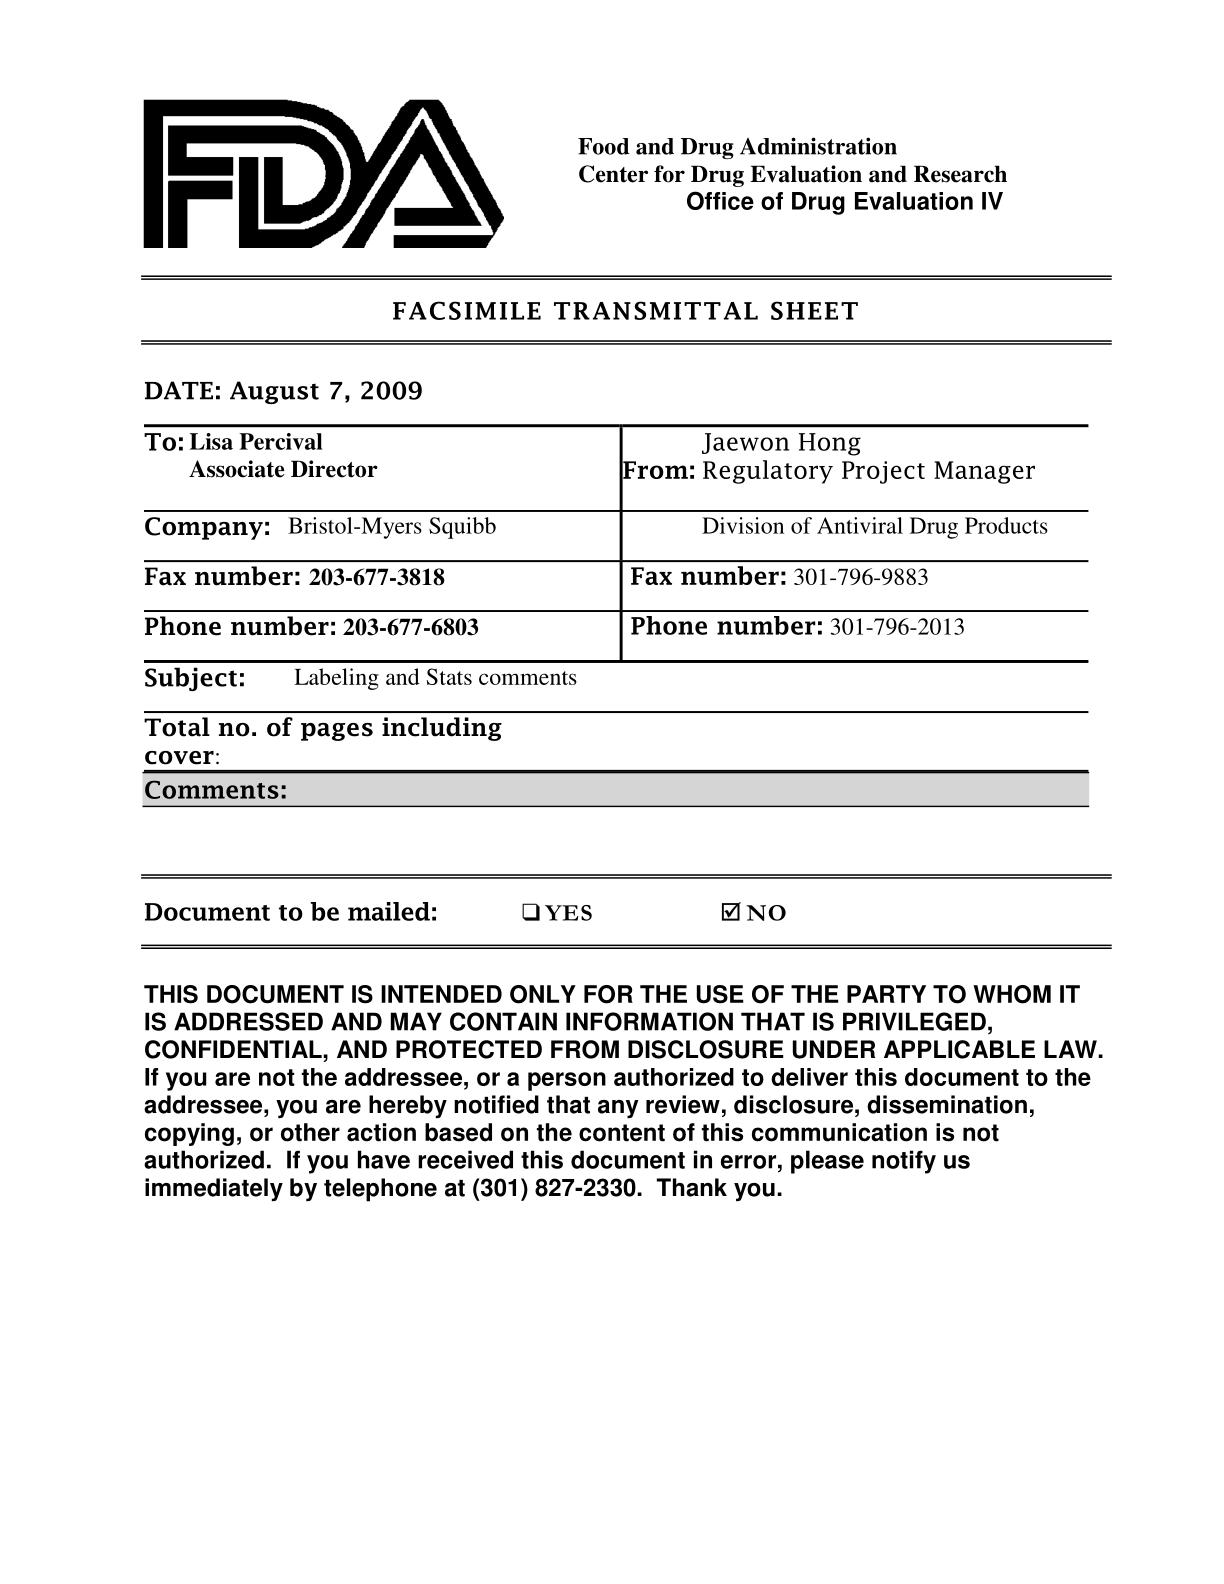partial_lined_merged_cells: (138, 411, 1099, 825)
